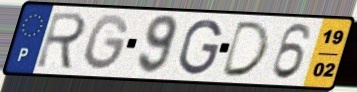6: (269, 21, 313, 82)
9: (134, 13, 179, 77)
D: (218, 19, 273, 78)
G: (82, 12, 131, 73), (176, 18, 224, 77)
R: (33, 10, 89, 71)
